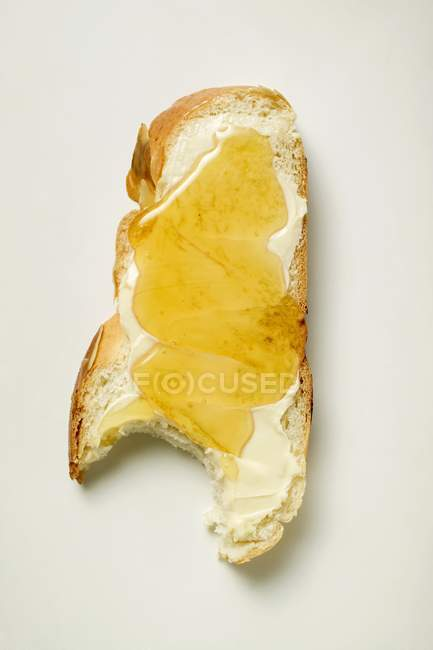slice of bread: (149, 122, 284, 525)
